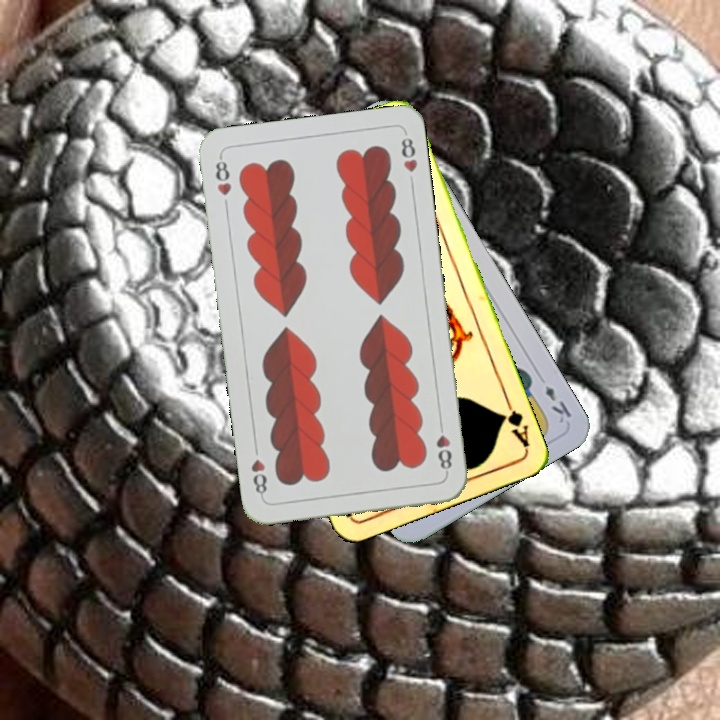EK: (540, 381, 574, 426)
GA: (496, 394, 532, 450)
H8: (432, 417, 454, 476), (211, 152, 234, 198)
